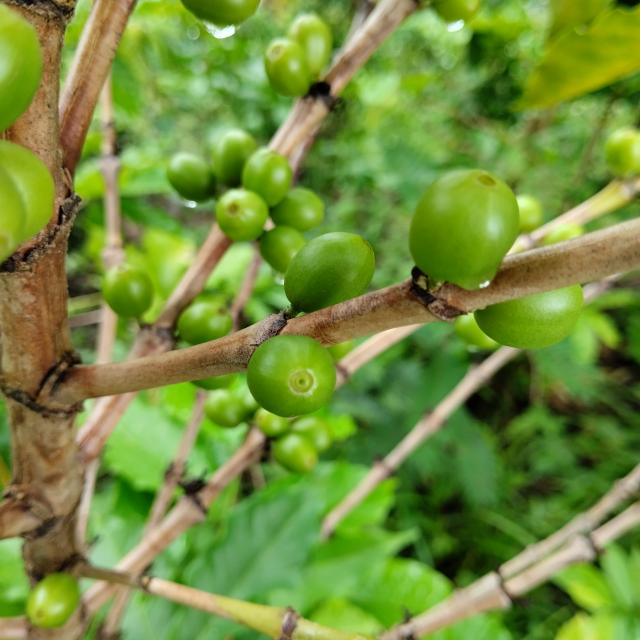green: (410, 169, 520, 281), (247, 335, 336, 418), (285, 232, 374, 312), (475, 285, 585, 349), (475, 286, 584, 349)
